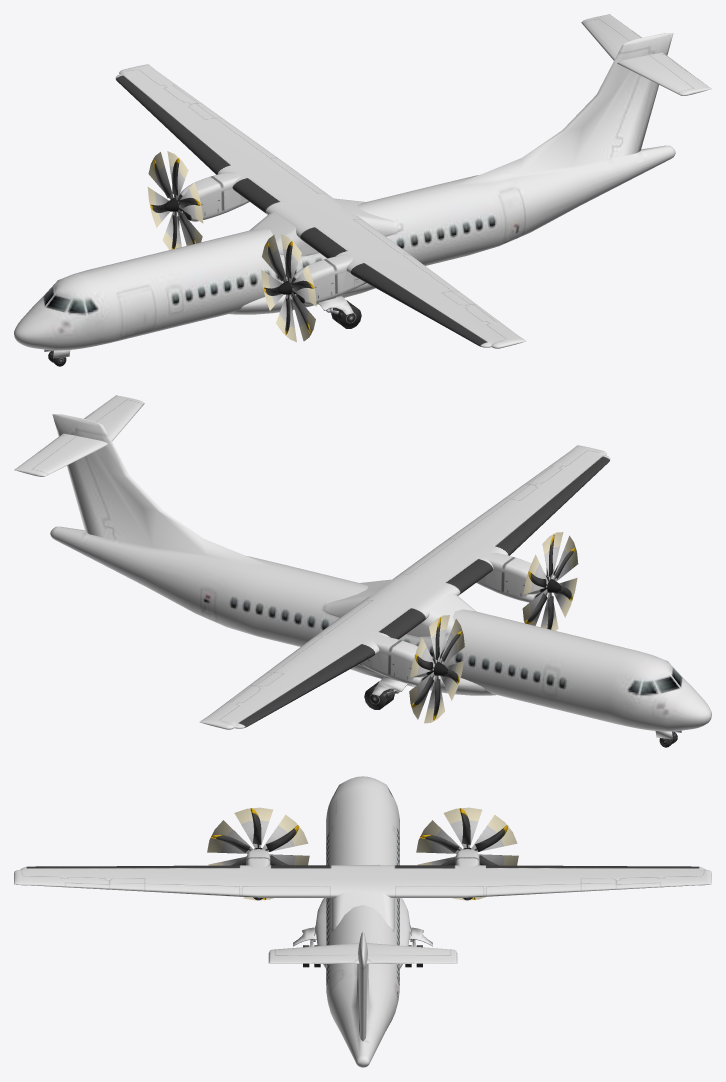
3 renders of one model, top to bottom at view 1: azimuth 30°, elevation 25°; view 2: azimuth 150°, elevation 25°; view 3: azimuth 270°, elevation 25°, orthographic. The views are drawn at different scales.
Parts seen in each view (by area): view 1: airframe, gear; view 2: airframe, gear; view 3: airframe, gear.
Part boxes in pixels (x1,y1,x2,y2): airframe: (14, 14, 711, 350); gear: (44, 295, 361, 366); airframe: (14, 395, 711, 731); gear: (364, 676, 681, 747); airframe: (14, 776, 711, 1067); gear: (293, 924, 432, 967).
Size of the model in its own units: 27.16 by 7.44 by 27.05.
1 material, 1 textured.
